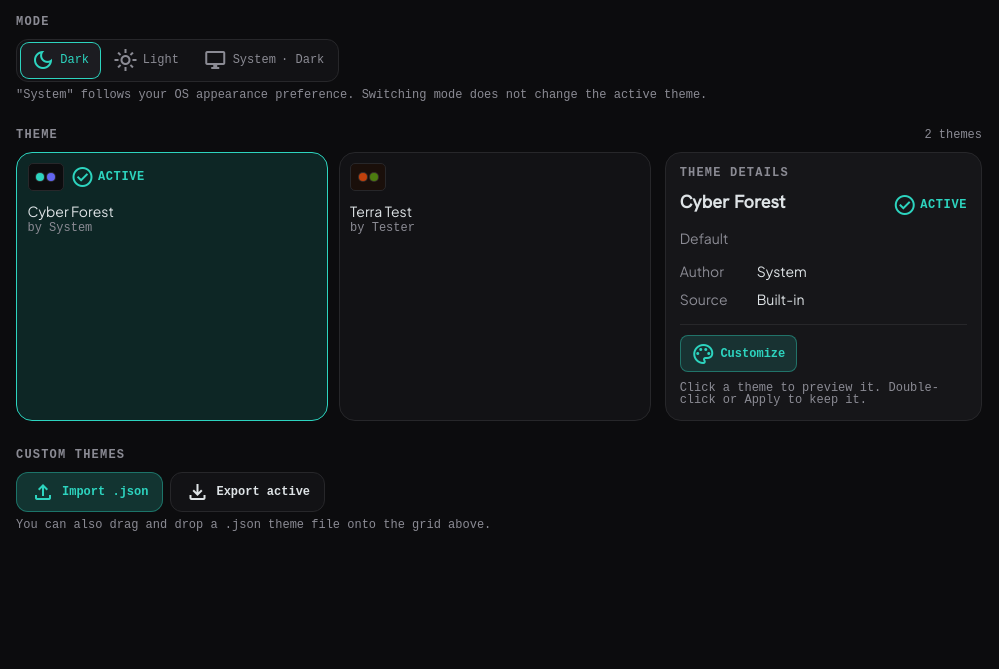
Scenario: AppearanceTab picker a11y (#50, #512) › two-stage preview (#512) › clicking the active theme cancels an in-flight preview
This screenshot has width=999, height=669.
Click the button "Terra Test by Tester" at [368, 177], box [339, 152, 651, 421]
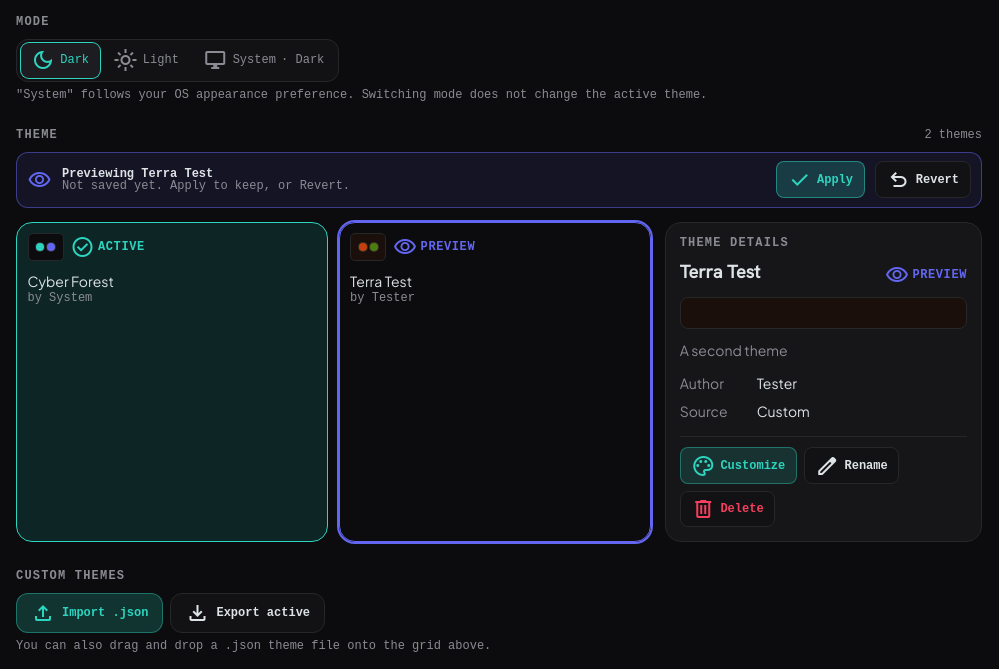
Check: the message "Previewing Terra Test Not saved yet. Apply to keep, or Revert. Apply Revert" is shown, box [16, 152, 982, 208]
Click the button "Active Cyber Forest by System" at [46, 247], box [16, 222, 328, 542]
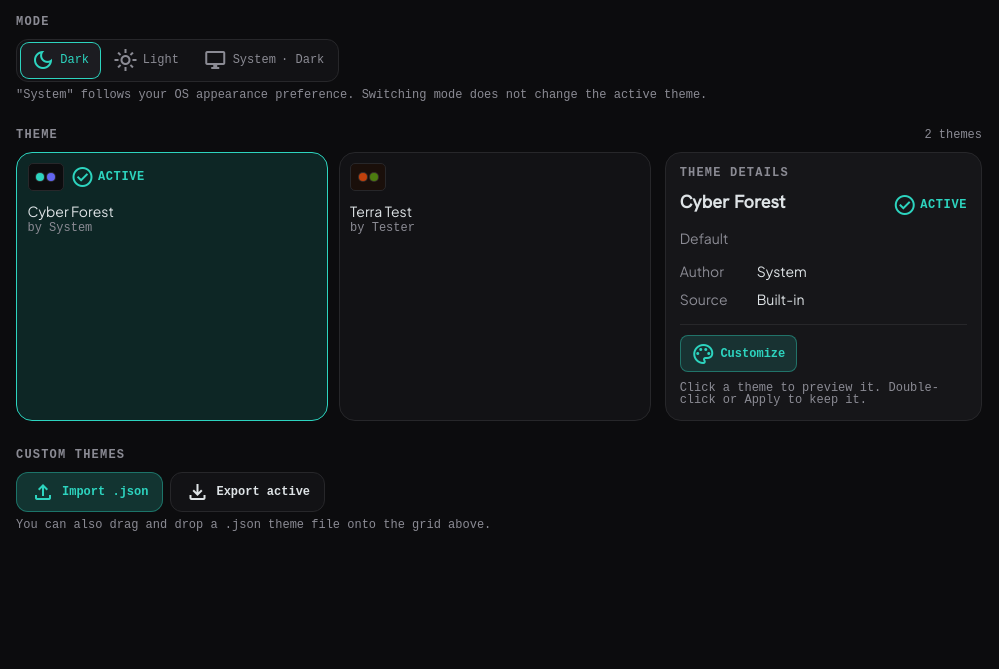
Check: the message "Previewing Terra Test Not saved yet. Apply to keep, or Revert. Apply Revert" is gone
